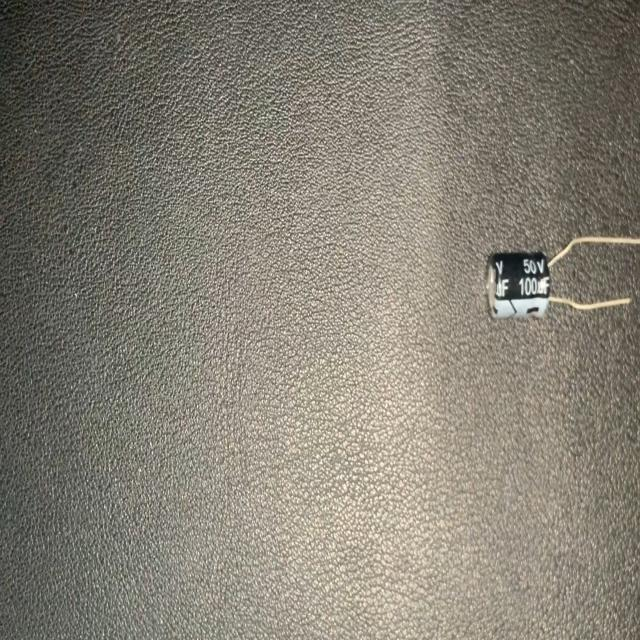capacitor: (481, 225, 640, 327)
